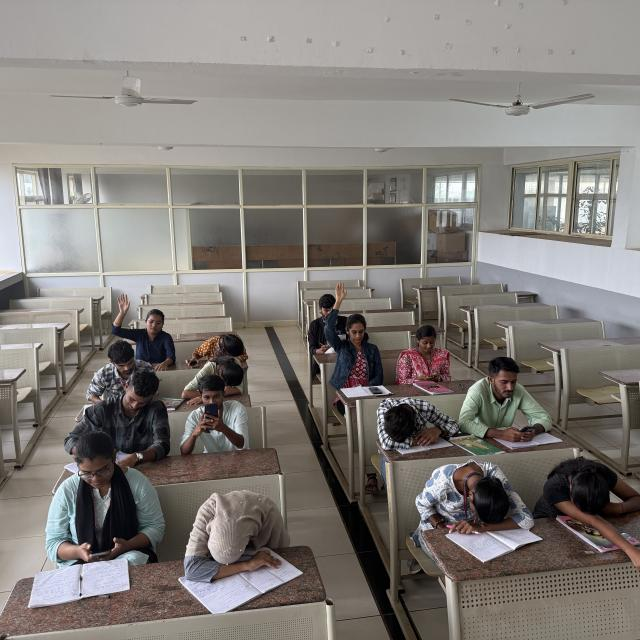Hand Rising: (104, 292, 180, 366), (327, 279, 382, 370)
Sleeping: (185, 485, 287, 574), (418, 454, 538, 526), (538, 455, 640, 531), (176, 353, 255, 403), (374, 398, 454, 443), (185, 332, 254, 360)
Using Phone: (59, 432, 158, 567), (469, 357, 554, 437), (177, 372, 252, 448), (400, 322, 454, 381)
Writing: (307, 295, 351, 355)
